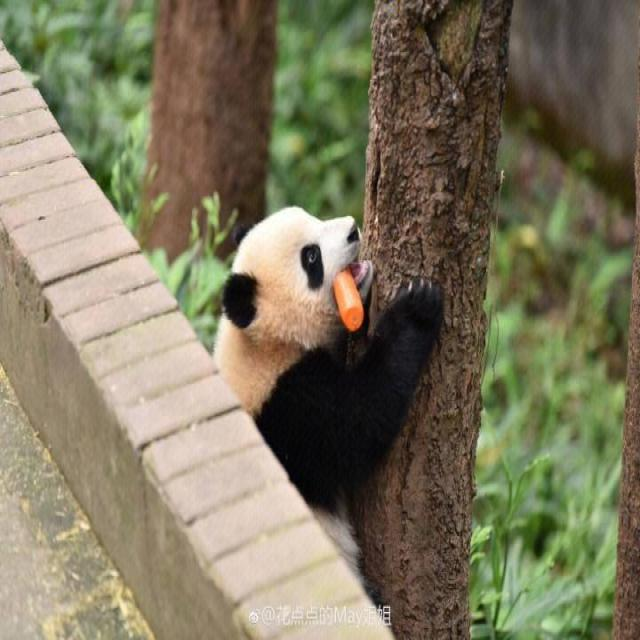panda: (184, 179, 444, 578)
